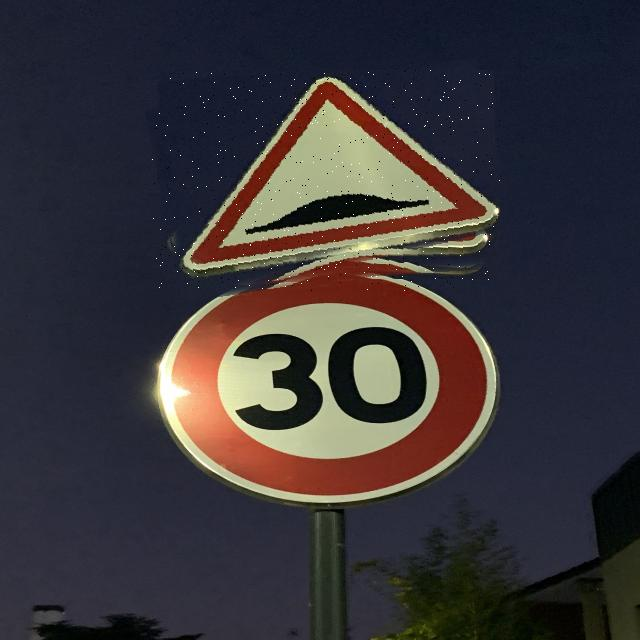hump: (151, 70, 500, 291)
